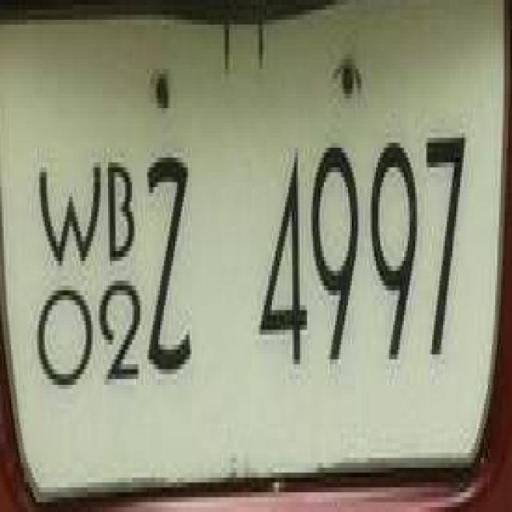number plate: (7, 10, 512, 482)
